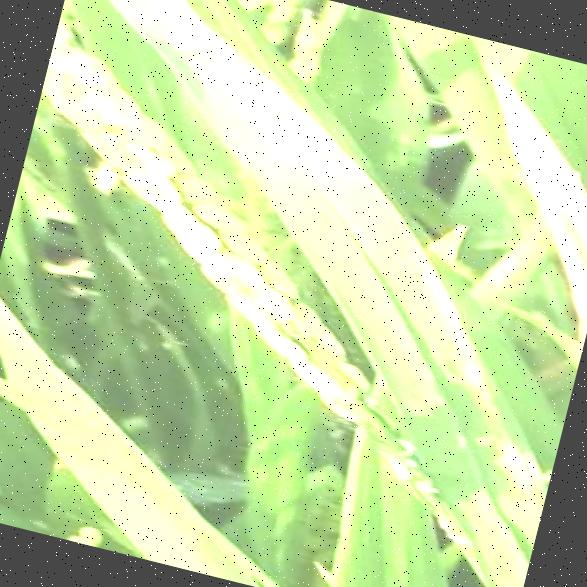Bacteria_Leaf_Blight: (296, 202, 587, 533)
